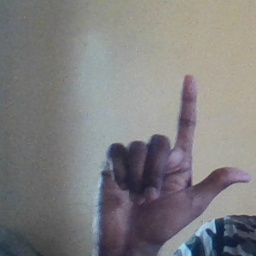L: (95, 73, 250, 247)
